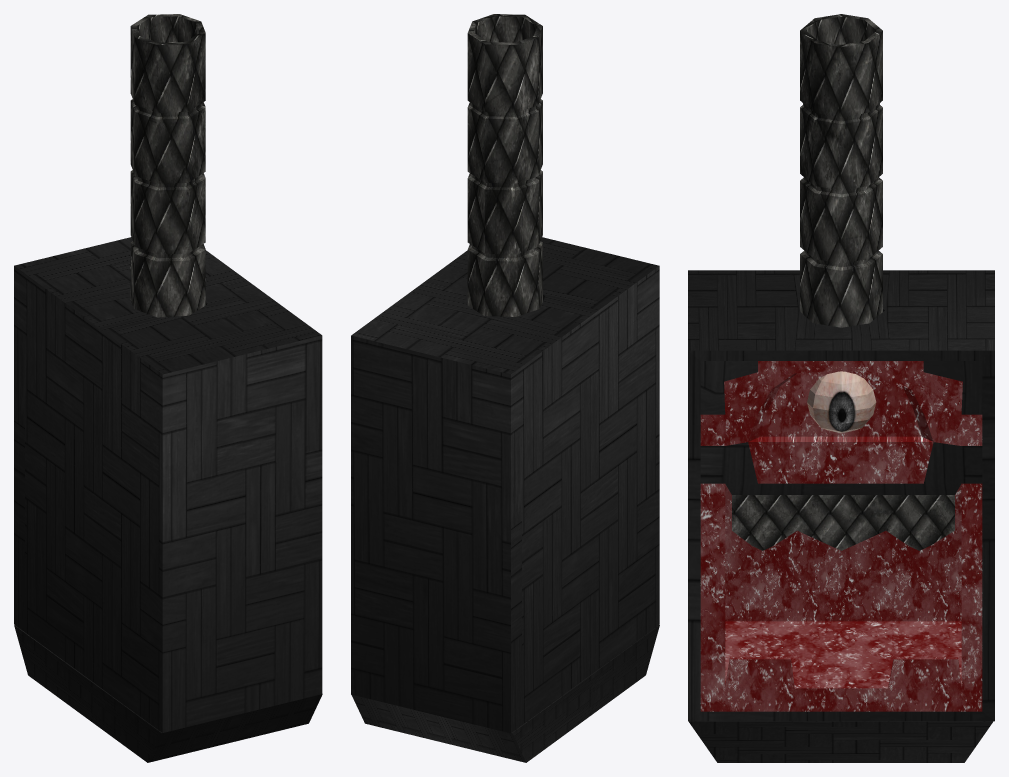
The model's file is Furnace monster (Opening mouth).fbx.
3 views of the same model, side by side, from view 1: azimuth 30°, elevation 25°; view 2: azimuth 150°, elevation 25°; view 3: azimuth 270°, elevation 25° (orthographic). The views are drawn at different scales.
Parts seen in each view (by area): view 1: Frame, Pipe, Base; view 2: Frame, Pipe, Base; view 3: Frame, Pipe, Base, Teeth, Eye_ball.
Part boxes in pixels (x1,y1,x2,y2): Frame: [14, 237, 322, 732]; Pipe: [130, 14, 205, 317]; Base: [14, 625, 322, 762]; Frame: [351, 237, 659, 733]; Pipe: [467, 14, 542, 316]; Base: [351, 625, 659, 762]; Frame: [688, 270, 994, 721]; Pipe: [800, 14, 882, 327]; Base: [688, 721, 993, 762]; Teeth: [732, 495, 954, 550]; Eye_ball: [807, 371, 876, 433].
Bounding box in the file's own units: 0.0425 × 0.1571 × 0.0632.
Materials: 5 (5 with a texture image).
